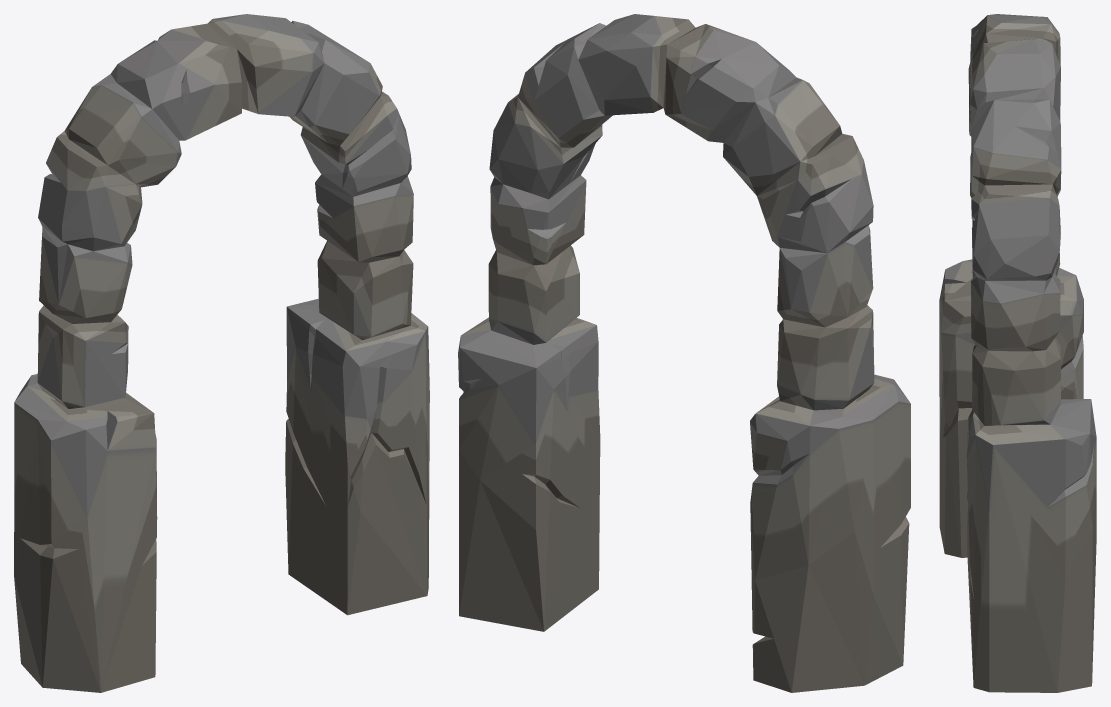
The model's file is enchanted_SM_Prop_Archway_01.gltf.
The picture shows the model from 3 angles, left to right: view 1: azimuth 30°, elevation 25°; view 2: azimuth 150°, elevation 25°; view 3: azimuth 270°, elevation 25°; orthographic projection. The views are drawn at different scales.
Parts seen in each view (by area): view 1: SM_Prop_Archway_01; view 2: SM_Prop_Archway_01; view 3: SM_Prop_Archway_01.
Boxes of the visible parts, x1,y1,x2,y2 form: SM_Prop_Archway_01: (14,14,429,692); SM_Prop_Archway_01: (458,14,910,692); SM_Prop_Archway_01: (939,14,1096,692).
Bounding box in the file's own units: 3.8 × 5.48 × 1.38.
Materials: 1 (1 with a texture image).
